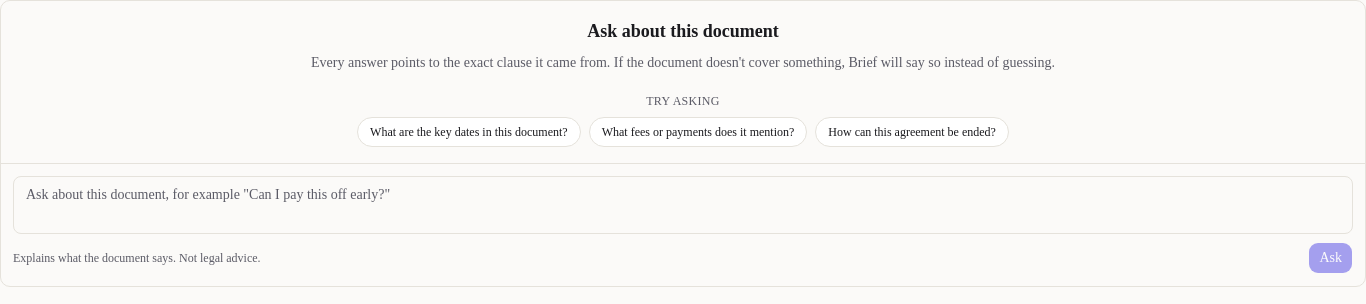
Test: ChatPanel › shows a plain-language message when asking fails
The image size is (1366, 304).
Type "Anything?" into the text box named "Your question" at {"x": 683, "y": 205}, box [13,176,1353,234]
Then press Enter
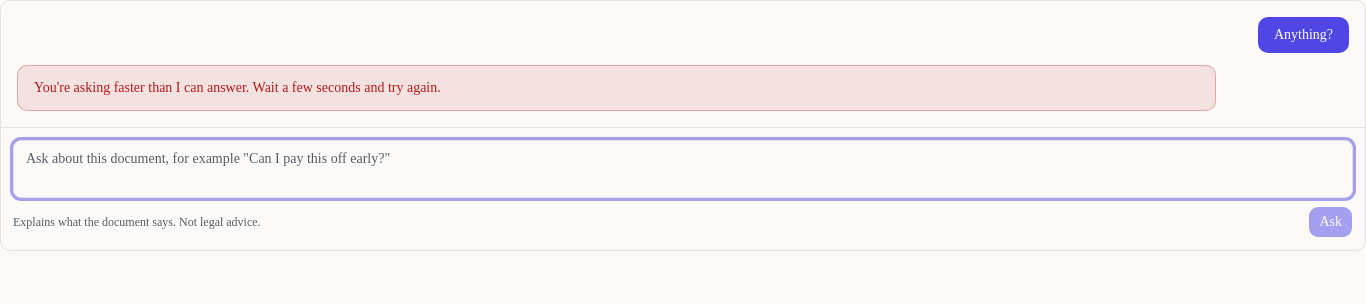
Now the text "asking faster than I can answer" is shown, box [34,80,441,95]
